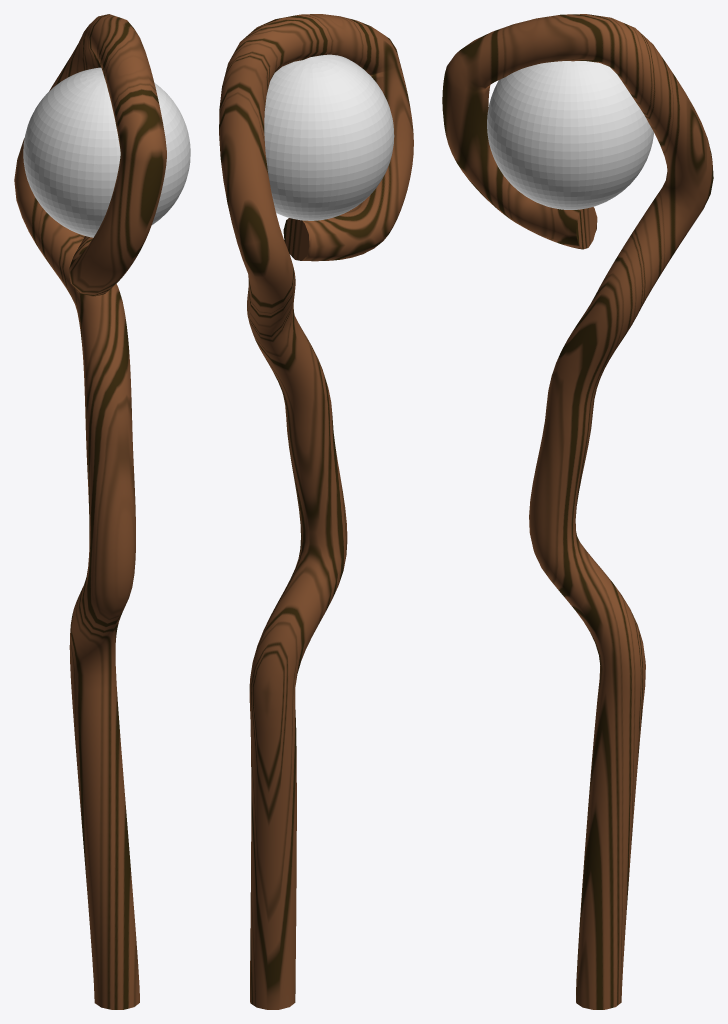
File: cat staff.fbx
3 views of the same model, side by side, from view 1: azimuth 30°, elevation 25°; view 2: azimuth 150°, elevation 25°; view 3: azimuth 270°, elevation 25° (orthographic).
Parts seen in each view (by area): view 1: baculo, idrio; view 2: baculo, idrio; view 3: baculo, idrio.
Part boxes in pixels (x1,y1,x2,y2): baculo: (14,14,166,1009); idrio: (23,67,190,237); baculo: (219,14,413,1009); idrio: (264,54,394,220); baculo: (442,14,713,1009); idrio: (487,61,653,209).
Size of what is drawn, in the model's own units: 64.21 by 414 by 104.
3 materials, 1 textured.
